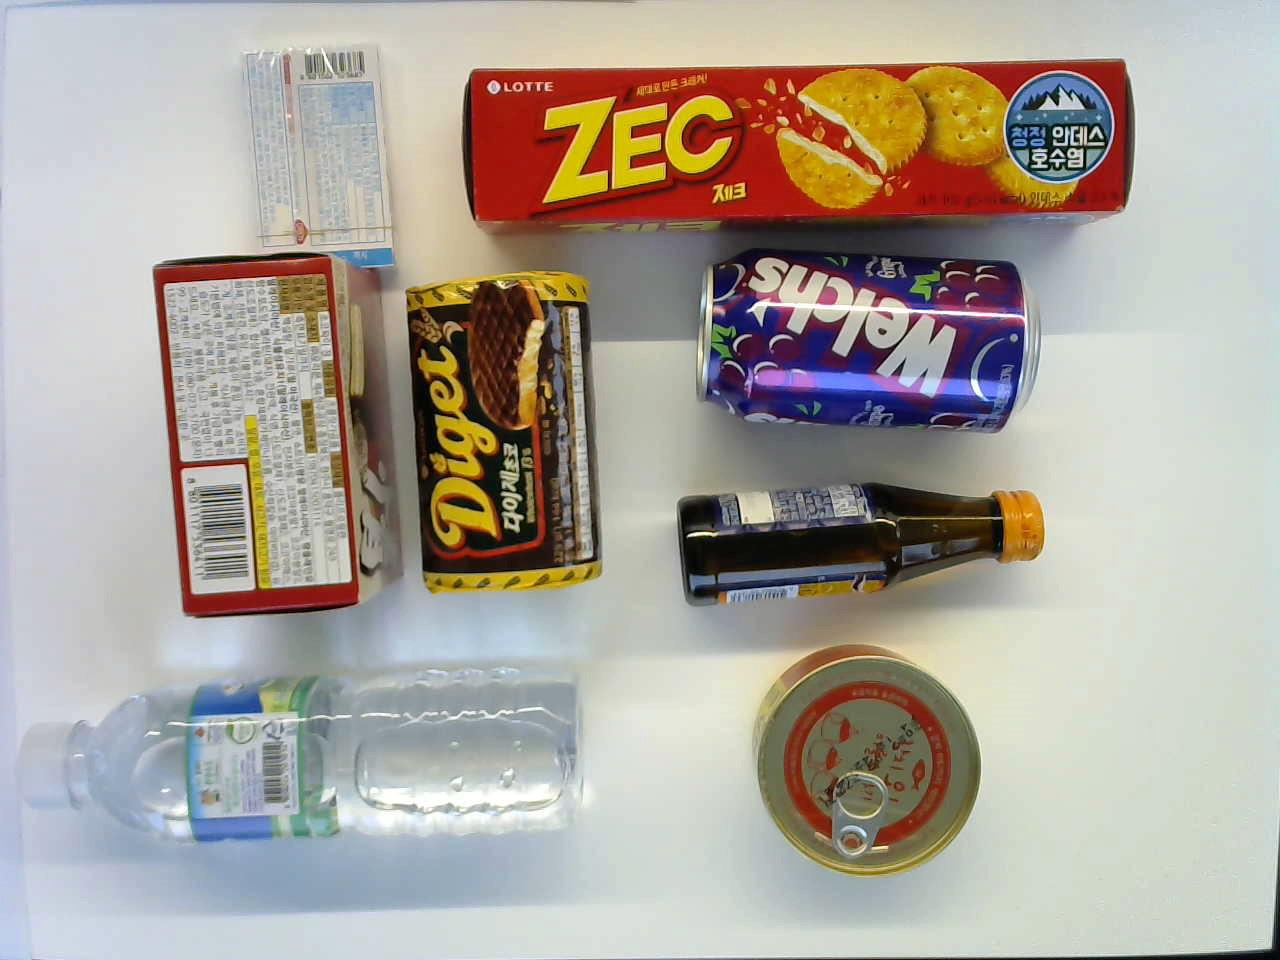ID_gum: (234, 42, 400, 275)
chocopie: (147, 248, 405, 622)
diget_choco: (403, 268, 612, 600)
samdasu: (10, 659, 580, 847)
tuna: (747, 641, 983, 878)
vita500: (669, 477, 1044, 607)
welchs: (689, 248, 1042, 435)
zec: (452, 61, 1136, 236)
